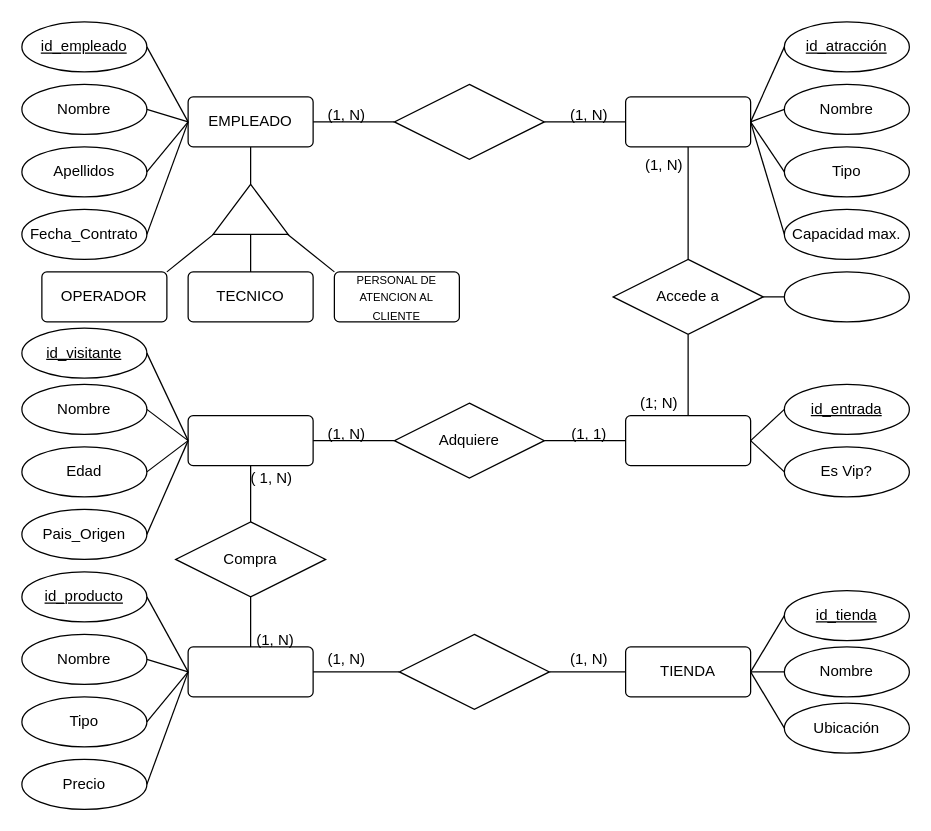
Some shapes in this 931 by 831 pixel diagram are drawn without their labels. The centre of each missing label's shape, as x and y in pixels:
ATRACCIÓN: pixel 687 121
ENTRADA: pixel 687 440
Hora_acceso: pixel 846 296
ISA: pixel 250 208
PRODUCTO: pixel 250 671
Se vende en: pixel 473 671
Trabaja: pixel 468 121
VISITANTE: pixel 250 440
